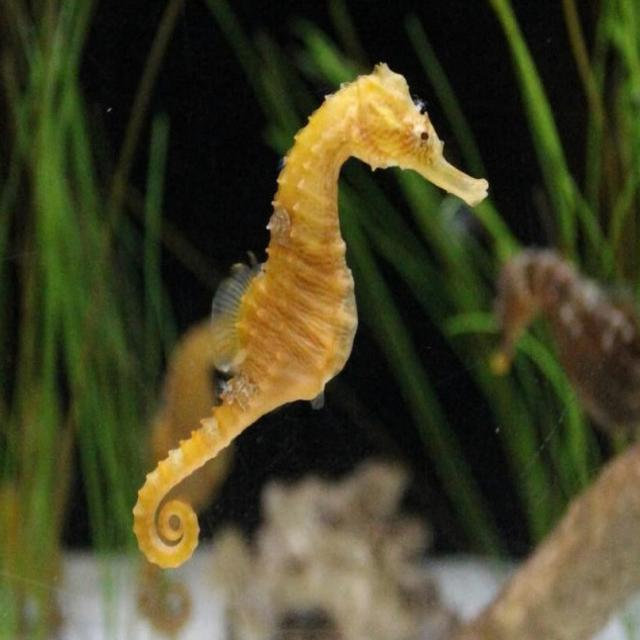seahorse: (133, 64, 488, 566)
